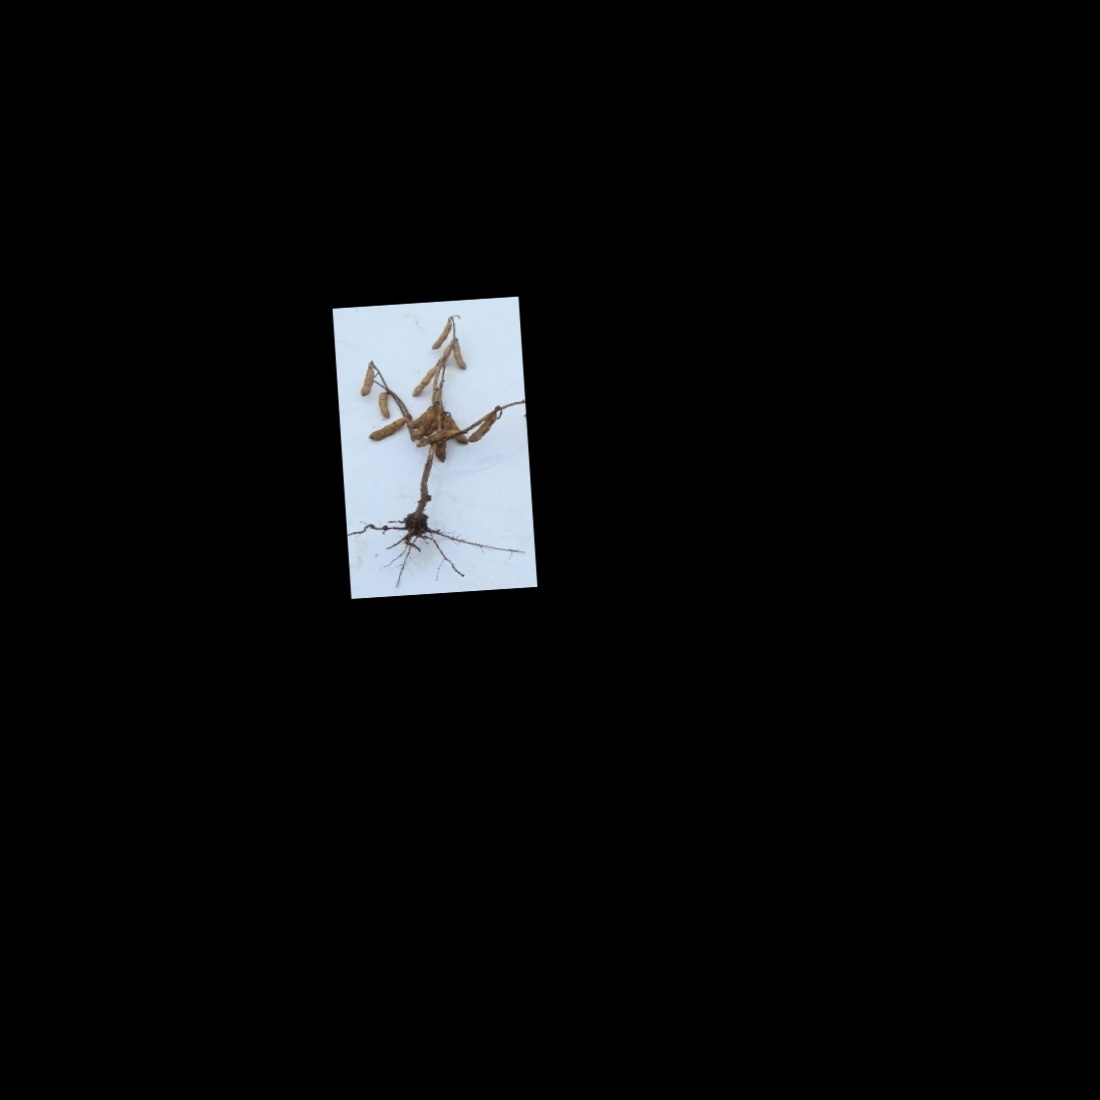pod: (366, 415, 408, 444), (408, 364, 440, 398), (426, 320, 455, 350), (356, 362, 376, 399), (451, 341, 469, 371), (432, 440, 450, 464)
soy: (340, 310, 519, 582)
